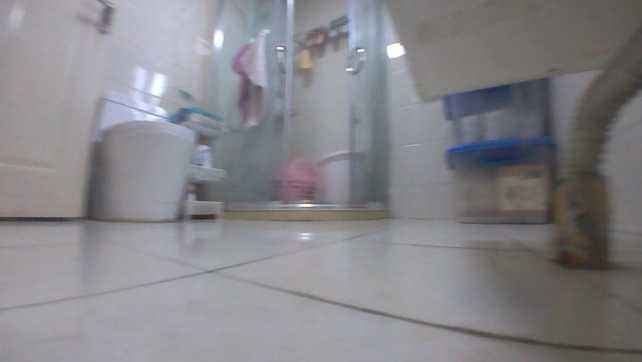door_anno: (1, 0, 116, 219)
toilet: (88, 116, 199, 225)
